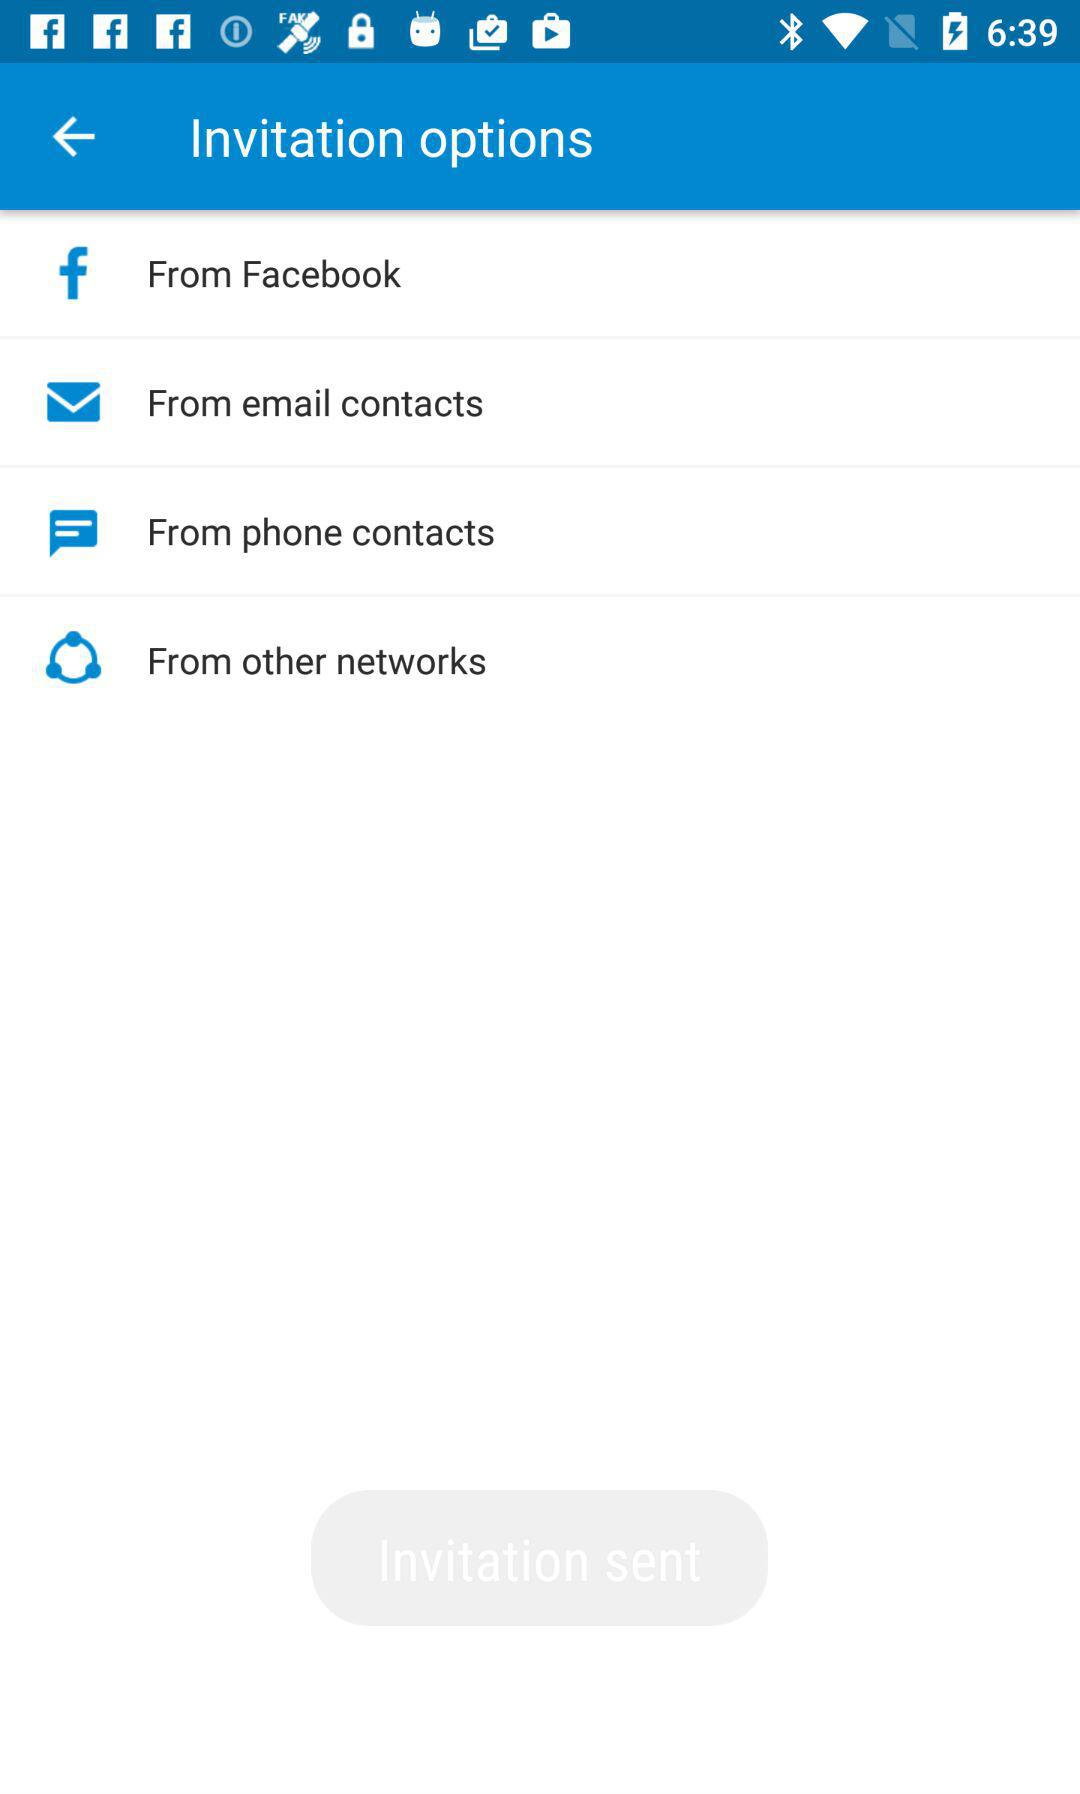Icon: (49, 510, 99, 557), (47, 382, 102, 424), (53, 115, 97, 159), (59, 246, 90, 301)
Image: (45, 630, 102, 686)
Text: (192, 118, 593, 170), (149, 516, 495, 555), (150, 645, 487, 677), (150, 388, 484, 419), (149, 259, 404, 290)
Toolbar: (1, 64, 1080, 211)
UpperTaskBar: (1, 1, 1080, 64)
